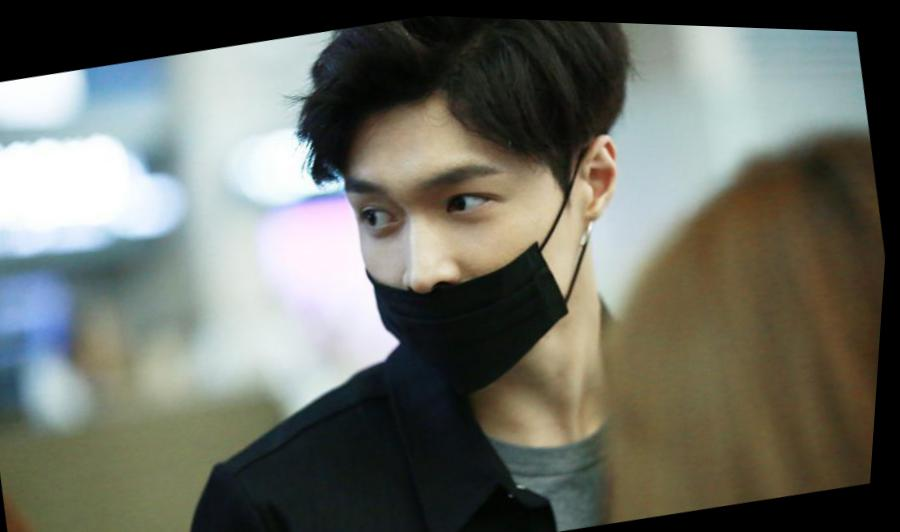WRONG: (329, 121, 589, 410)
